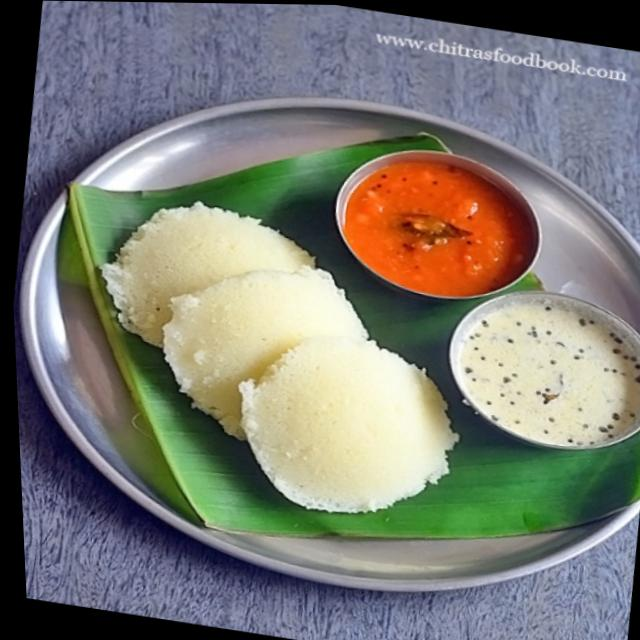IDLI: (100, 201, 455, 509)
RED CHUTNEY: (342, 160, 529, 294)
WHITE CHUTNEY: (451, 292, 640, 447)
